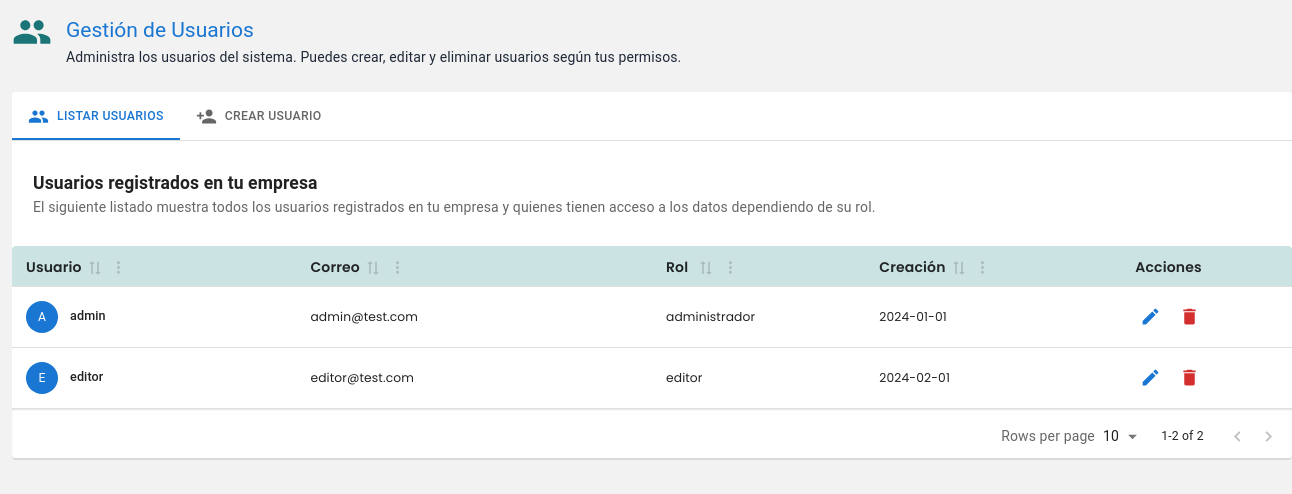
Test: UsuariosList › shows create form when clicking create tab
The image size is (1292, 494).
Check: the text "admin" is shown, box [70, 307, 106, 326]
Click the tab "Crear Usuario".
click(259, 114)  # box [180, 92, 338, 136]
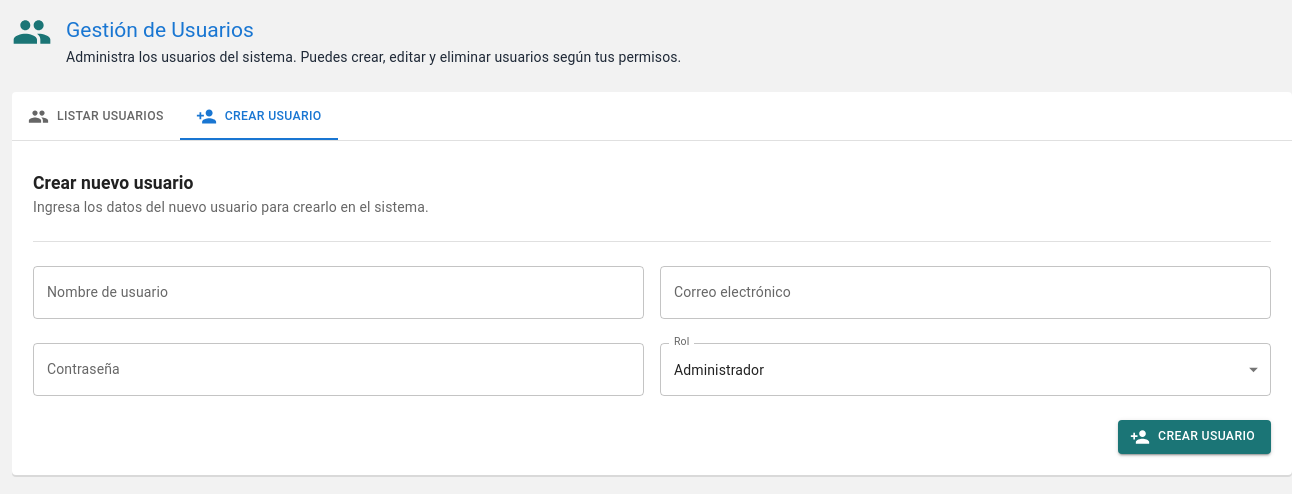
Check: the heading "Crear nuevo usuario" is shown, box [33, 173, 194, 193]
